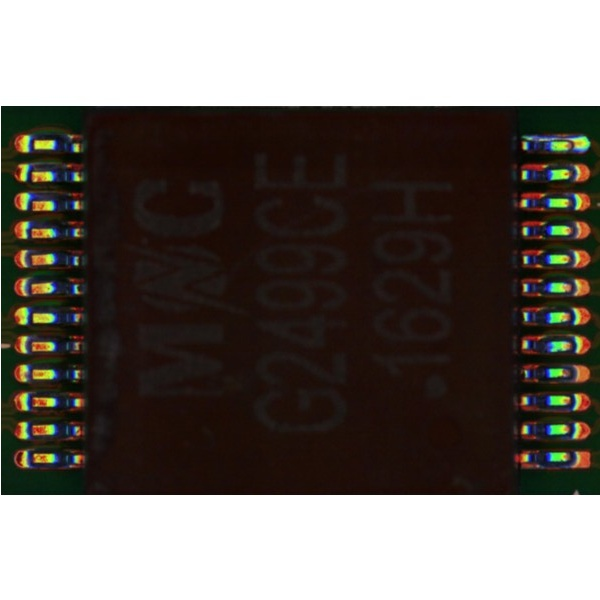Bad_podu: (564, 140, 580, 149)
Bad_qiaojiao: (520, 136, 567, 142)
